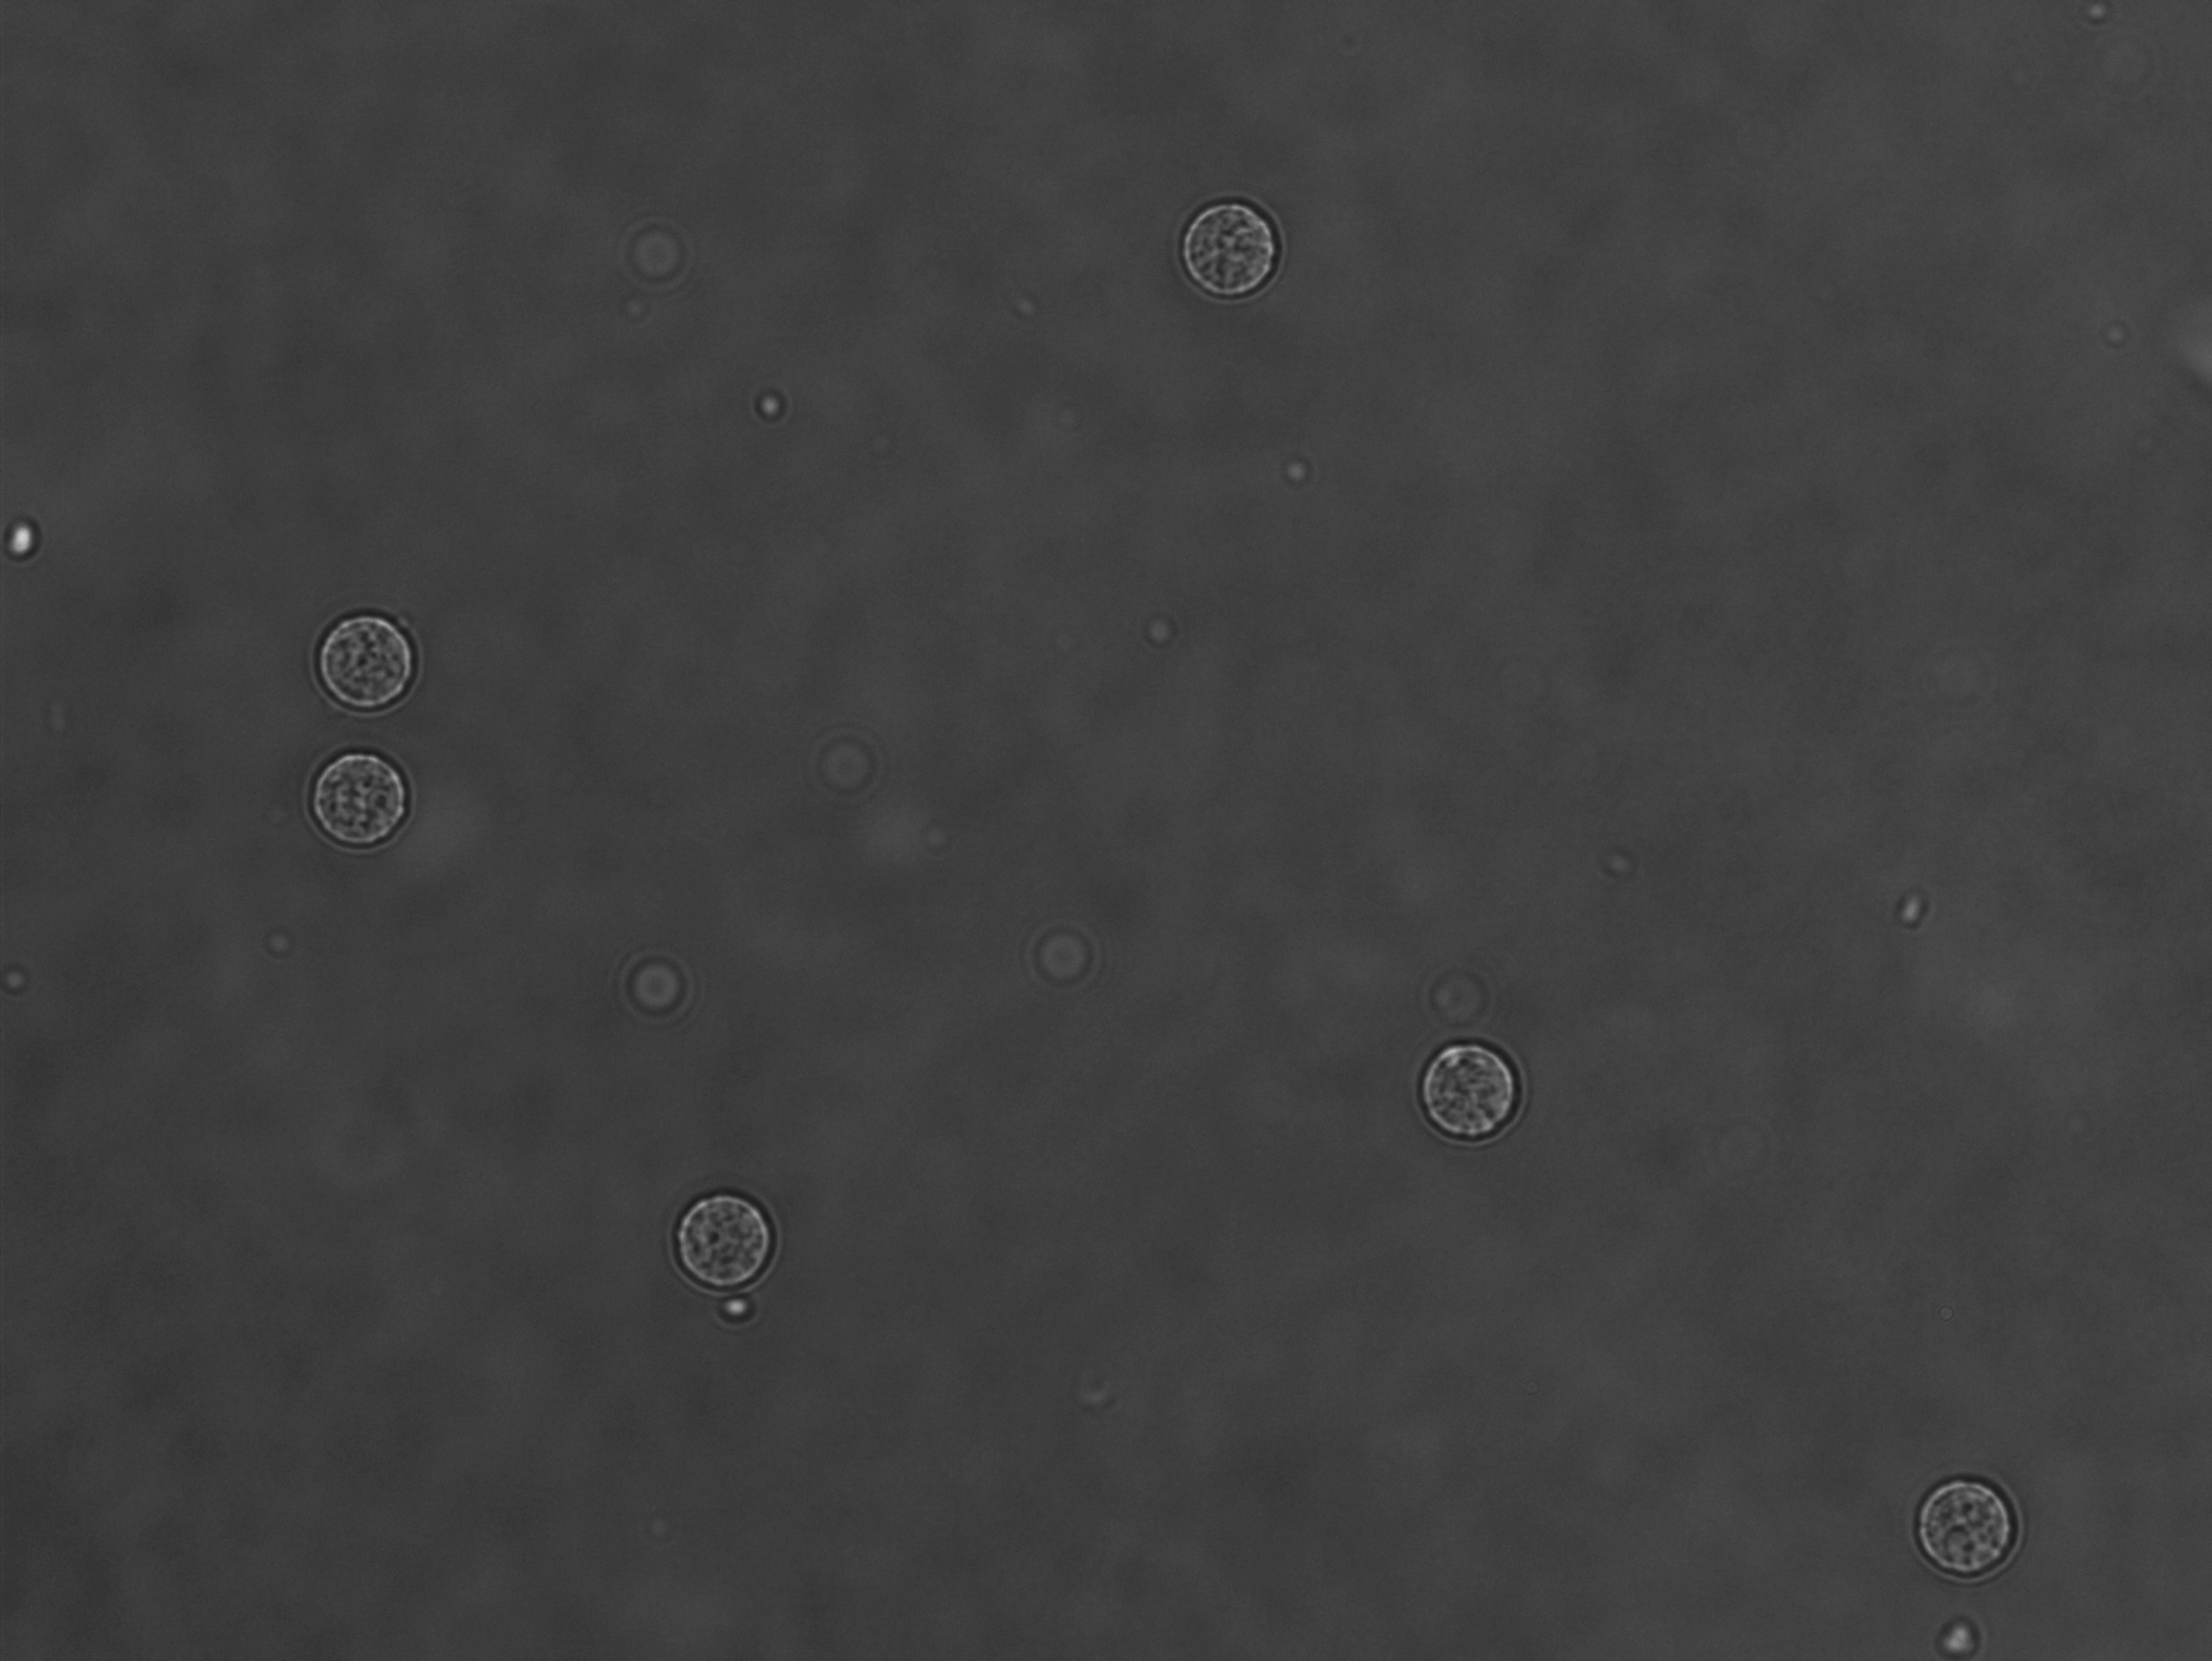depth:0: (1895, 1431, 2064, 1595), (1399, 1005, 1558, 1164), (293, 579, 459, 726), (659, 1159, 816, 1309), (304, 731, 455, 862), (1169, 192, 1298, 314)
